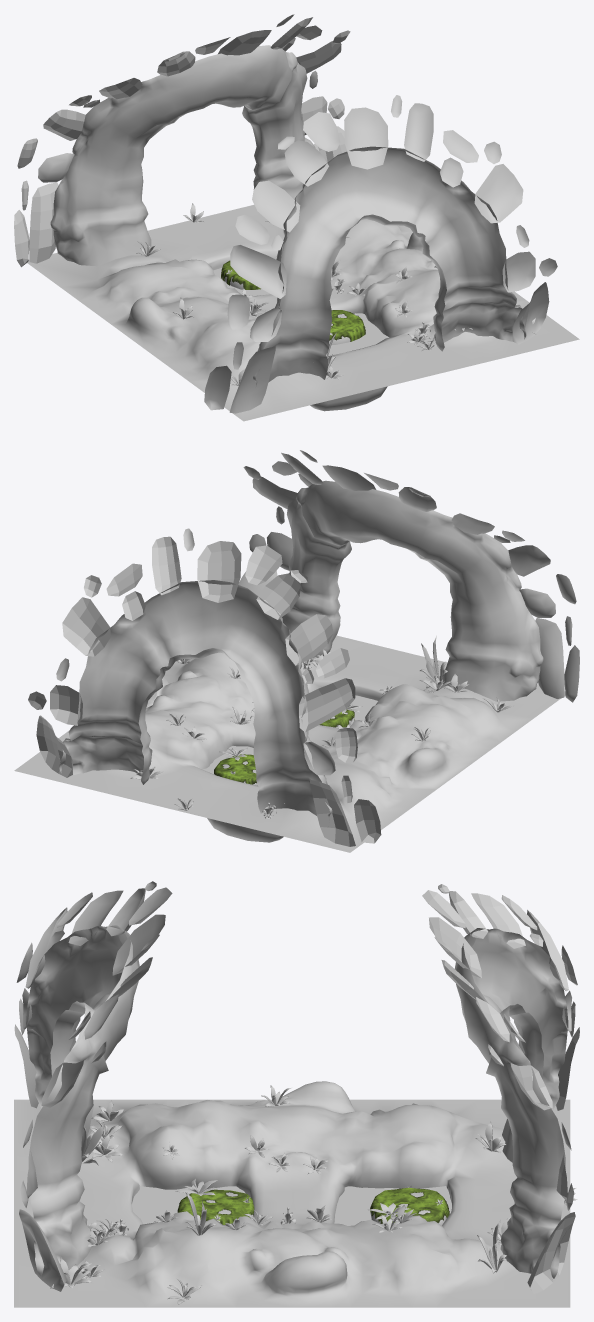
Rendered from mission_02_avril2016.fbx.
The picture shows the model from 3 angles, top to bottom: view 1: azimuth 30°, elevation 25°; view 2: azimuth 150°, elevation 25°; view 3: azimuth 270°, elevation 25°; orthographic projection. The views are drawn at different scales.
Parts seen in each view (by area): view 1: sortiegrotte, map, sortiegrotte2, herbe, water, grasslift; view 2: sortiegrotte2, map, sortiegrotte, herbe, grasslift, water; view 3: map, sortiegrotte2, sortiegrotte, herbe, grasslift (×2), water.
Part boxes in pixels (x1,y1,x2,y2): sortiegrotte: (204, 95, 557, 413); map: (27, 205, 579, 421); sortiegrotte2: (14, 14, 350, 267); herbe: (136, 203, 536, 385); water: (213, 268, 389, 356); grasslift: (329, 310, 365, 341); sortiegrotte2: (28, 528, 381, 846); map: (14, 635, 565, 852); sortiegrotte: (238, 450, 579, 702); herbe: (130, 635, 513, 810); grasslift: (214, 754, 256, 784); water: (202, 691, 377, 774); map: (14, 1081, 570, 1307); sortiegrotte2: (422, 884, 579, 1294); sortiegrotte: (14, 881, 172, 1291); herbe: (50, 1085, 577, 1304); grasslift (×2): (177, 1187, 449, 1224); water: (132, 1186, 451, 1225).
Bounding box in the file's own units: 933 × 740 × 1001.
